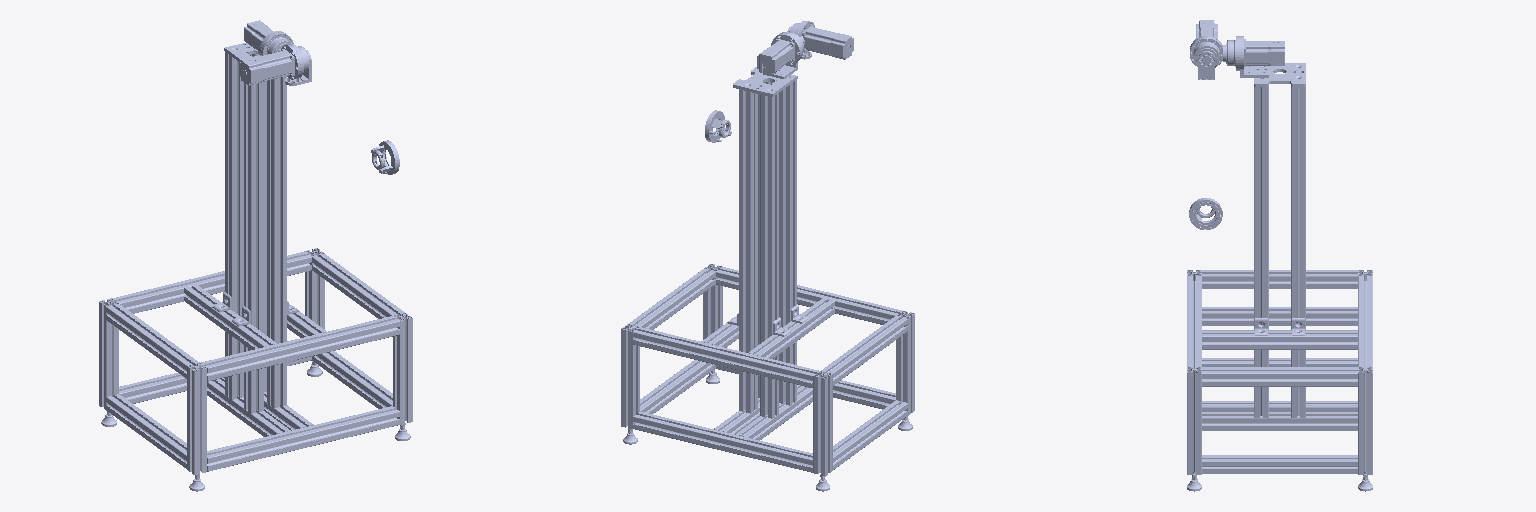
robot.urdf — urdf:
<?xml version="1.0" encoding="utf-8"?>
<!-- This URDF was automatically created by SolidWorks to URDF Exporter! Originally created by [author] ([email redacted]) 
     Commit Version: 1.6.0-4-g7f85cfe  Build Version: 1.6.7995.38578
     For more information, please see http://wiki.ros.org/sw_urdf_exporter -->
<robot
  name="urdf">
  <link
    name="base_link">
    <inertial>
      <origin
        xyz="0.000160852559340272 0.416511988266863 0.00522519390962018"
        rpy="0 0 0" />
      <mass
        value="6.60658072927865" />
      <inertia
        ixx="0.205461268695088"
        ixy="-4.8631130134879E-08"
        ixz="3.31309244336347E-09"
        iyy="0.0632251395598791"
        iyz="-4.46121098307276E-09"
        izz="0.213924141252687" />
    </inertial>
    <visual>
      <origin
        xyz="0 0 0"
        rpy="0 0 0" />
      <geometry>
        <mesh
          filename="package://air_description/meshes/base_link.STL" />
      </geometry>
      <material
        name="">
        <color
          rgba="0.792156862745098 0.819607843137255 0.933333333333333 1" />
      </material>
    </visual>
    <collision>
      <origin
        xyz="0 0 0"
        rpy="0 0 0" />
      <geometry>
        <mesh
          filename="package://air_description/meshes/base_link.STL" />
      </geometry>
    </collision>
  </link>
  <link
    name="s1">
    <inertial>
      <origin
        xyz="-0.0565855661773653 -1.47432999124675E-05 0.0503451976338493"
        rpy="0 0 0" />
      <mass
        value="0.542684124579144" />
      <inertia
        ixx="0.000345761092952399"
        ixy="-3.24050500600486E-07"
        ixz="1.50683178516403E-07"
        iyy="0.000778022471193682"
        iyz="1.07326375799424E-08"
        izz="0.000776671252305068" />
    </inertial>
    <visual>
      <origin
        xyz="0 0 0"
        rpy="0 0 0" />
      <geometry>
        <mesh
          filename="package://air_description/meshes/s1.STL" />
      </geometry>
      <material
        name="">
        <color
          rgba="0.792156862745098 0.819607843137255 0.933333333333333 1" />
      </material>
    </visual>
    <collision>
      <origin
        xyz="0 0 0"
        rpy="0 0 0" />
      <geometry>
        <mesh
          filename="package://air_description/meshes/s1.STL" />
      </geometry>
    </collision>
  </link>
  <joint
    name="s1j"
    type="revolute">
    <origin
      xyz="0 -0.1455 1.1455"
      rpy="1.5708 0 0" />
    <parent
      link="base_link" />
    <child
      link="s1" />
    <axis
      xyz="0 0 1" />
    <limit
      lower="-0.78"
      upper="0.78"
      effort="0"
      velocity="0.35" />
  </joint>
  <link
    name="s2">
    <inertial>
      <origin
        xyz="0.0265368019978267 -0.0360762146328593 0.00202591662662588"
        rpy="0 0 0" />
      <mass
        value="0.0397003268136184" />
      <inertia
        ixx="1.77539568949169E-05"
        ixy="-5.49265597337707E-08"
        ixz="4.46961963342789E-21"
        iyy="9.62749691816005E-06"
        iyz="5.5659379414233E-21"
        izz="1.53865784423673E-05" />
    </inertial>
    <visual>
      <origin
        xyz="0 0 0"
        rpy="0 0 0" />
      <geometry>
        <mesh
          filename="package://air_description/meshes/s2.STL" />
      </geometry>
      <material
        name="">
        <color
          rgba="0.792156862745098 0.819607843137255 0.933333333333333 1" />
      </material>
    </visual>
    <collision>
      <origin
        xyz="0 0 0"
        rpy="0 0 0" />
      <geometry>
        <mesh
          filename="package://air_description/meshes/s2.STL" />
      </geometry>
    </collision>
  </link>
  <joint
    name="s2j"
    type="revolute">
    <origin
      xyz="0 0 0.05"
      rpy="0 0 0" />
    <parent
      link="s1" />
    <child
      link="s2" />
    <axis
      xyz="-1 0 0" />
    <limit
      lower="0"
      upper="1.57"
      effort="0"
      velocity="0.35" />
  </joint>
  <link
    name="s3">
    <inertial>
      <origin
        xyz="-0.0307852686146159 -0.106762715233885 -0.00285680761161178"
        rpy="0 0 0" />
      <mass
        value="0.69346525440976" />
      <inertia
        ixx="0.000632226154715784"
        ixy="3.3846916742775E-06"
        ixz="-2.03216958615076E-06"
        iyy="0.000203793561582271"
        iyz="-7.69131798756883E-08"
        izz="0.000626858789980171" />
    </inertial>
    <visual>
      <origin
        xyz="0 0 0"
        rpy="0 0 0" />
      <geometry>
        <mesh
          filename="package://air_description/meshes/s3.STL" />
      </geometry>
      <material
        name="">
        <color
          rgba="0.792156862745098 0.819607843137255 0.933333333333333 1" />
      </material>
    </visual>
    <collision>
      <origin
        xyz="0 0 0"
        rpy="0 0 0" />
      <geometry>
        <mesh
          filename="package://air_description/meshes/s3.STL" />
      </geometry>
    </collision>
  </link>
  <joint
    name="s3j"
    type="revolute">
    <origin
      xyz="-0.00345 -0.06 0.0036"
      rpy="0 0 0" />
    <parent
      link="s2" />
    <child
      link="s3" />
    <axis
      xyz="0 -1 0" />
    <limit
      lower="-1.57"
      upper="1.57"
      effort="0"
      velocity="0.35" />
  </joint>
  <link
    name="e">
    <inertial>
      <origin
        xyz="0.133914313079551 0.0397090138567681 -0.00135370354868536"
        rpy="0 0 0" />
      <mass
        value="0.524484949455585" />
      <inertia
        ixx="0.000164098535625993"
        ixy="-0.00011555456704967"
        ixz="-1.49937999308697E-06"
        iyy="0.000491486729879123"
        iyz="5.4210279008361E-06"
        izz="0.000537801635705856" />
    </inertial>
    <visual>
      <origin
        xyz="0 0 0"
        rpy="0 0 0" />
      <geometry>
        <mesh
          filename="package://air_description/meshes/e.STL" />
      </geometry>
      <material
        name="">
        <color
          rgba="0.792156862745098 0.819607843137255 0.933333333333333 1" />
      </material>
    </visual>
    <collision>
      <origin
        xyz="0 0 0"
        rpy="0 0 0" />
      <geometry>
        <mesh
          filename="package://air_description/meshes/e.STL" />
      </geometry>
    </collision>
  </link>
  <joint
    name="ej"
    type="revolute">
    <origin
      xyz="-0.005 -0.2835 0"
      rpy="0 0 -0.28935" />
    <parent
      link="s3" />
    <child
      link="e" />
    <axis
      xyz="0 0 1" />
    <limit
      lower="-1.4"
      upper="0.184"
      effort="0"
      velocity="0.13" />
  </joint>
  <link
    name="roll">
    <inertial>
      <origin
        xyz="2.11649564541005E-08 2.17253527112771E-08 -5.72361158468482E-10"
        rpy="0 0 0" />
      <mass
        value="0.0123350072540482" />
      <inertia
        ixx="5.73140316108075E-06"
        ixy="2.39610064059149E-12"
        ixz="2.37221429275288E-12"
        iyy="3.0133459248538E-06"
        iyz="-2.51281711383088E-12"
        izz="3.01335111374677E-06" />
    </inertial>
    <visual>
      <origin
        xyz="0 0 0"
        rpy="0 0 0" />
      <geometry>
        <mesh
          filename="package://air_description/meshes/roll.STL" />
      </geometry>
      <material
        name="">
        <color
          rgba="0.792156862745098 0.819607843137255 0.933333333333333 1" />
      </material>
    </visual>
    <collision>
      <origin
        xyz="0 0 0"
        rpy="0 0 0" />
      <geometry>
        <mesh
          filename="package://air_description/meshes/roll.STL" />
      </geometry>
    </collision>
  </link>
  <joint
    name="rollj"
    type="revolute">
    <origin
      xyz="0.25159 0.0749 0"
      rpy="-1.5708 0 -2.8522" />
    <parent
      link="e" />
    <child
      link="roll" />
    <axis
      xyz="0 0.70711 0.70711" />
    <limit
      lower="-0.26"
      upper="0.26"
      effort="0"
      velocity="0.09" />
  </joint>
  <link
    name="pitch">
    <inertial>
      <origin
        xyz="0.0286089165171641 -0.000144661566694015 0.009855465038871"
        rpy="0 0 0" />
      <mass
        value="0.0576090249075869" />
      <inertia
        ixx="7.09168260696957E-05"
        ixy="-9.04854271559607E-09"
        ixz="-9.02484498992207E-09"
        iyy="3.68466285330398E-05"
        iyz="-3.7654782496613E-07"
        izz="3.68466243102646E-05" />
    </inertial>
    <visual>
      <origin
        xyz="0 0 0"
        rpy="0 0 0" />
      <geometry>
        <mesh
          filename="package://air_description/meshes/pitch.STL" />
      </geometry>
      <material
        name="">
        <color
          rgba="0.792156862745098 0.819607843137255 0.933333333333333 1" />
      </material>
    </visual>
    <collision>
      <origin
        xyz="0 0 0"
        rpy="0 0 0" />
      <geometry>
        <mesh
          filename="package://air_description/meshes/pitch.STL" />
      </geometry>
    </collision>
  </link>
  <joint
    name="pitchj"
    type="revolute">
    <origin
      xyz="0 0.01 0"
      rpy="-1.5708 0 3.1416" />
    <parent
      link="roll" />
    <child
      link="pitch" />
    <axis
      xyz="0 0.70711 -0.70711" />
    <limit
      lower="-0.26"
      upper="0.26"
      effort="0"
      velocity="0.09" />
  </joint>
  <link
    name="yaw">
    <inertial>
      <origin
        xyz="0.121145515511824 -0.00274393412138674 -0.00280619674961233"
        rpy="0 0 0" />
      <mass
        value="0.288045639627102" />
      <inertia
        ixx="0.000166764800385917"
        ixy="1.15318815602555E-05"
        ixz="-2.72502292894343E-07"
        iyy="0.000292613552431781"
        iyz="3.6036191451638E-08"
        izz="0.000214965635544534" />
    </inertial>
    <visual>
      <origin
        xyz="0 0 0"
        rpy="0 0 0" />
      <geometry>
        <mesh
          filename="package://air_description/meshes/yaw.STL" />
      </geometry>
      <material
        name="">
        <color
          rgba="0.792156862745098 0.819607843137255 0.933333333333333 1" />
      </material>
    </visual>
    <collision>
      <origin
        xyz="0 0 0"
        rpy="0 0 0" />
      <geometry>
        <mesh
          filename="package://air_description/meshes/yaw.STL" />
      </geometry>
    </collision>
  </link>
  <joint
    name="yawj"
    type="revolute">
    <origin
      xyz="0.01 0 0.01"
      rpy="0 0 0" />
    <parent
      link="pitch" />
    <child
      link="yaw" />
    <axis
      xyz="-1 0 0" />
    <limit
      lower="-3.0"
      upper="3.0"
      effort="0"
      velocity="1.75" />
  </joint>

    <gazebo reference="base_link">
      <turnGravityOff>true</turnGravityOff>
    </gazebo>
    <gazebo reference="s1">
      <turnGravityOff>true</turnGravityOff>
    </gazebo>
    <gazebo reference="s2">
      <turnGravityOff>true</turnGravityOff>
    </gazebo>
    <gazebo reference="s3">
      <turnGravityOff>true</turnGravityOff>
    </gazebo>
    <gazebo reference="e">
      <turnGravityOff>true</turnGravityOff>
    </gazebo>
    <gazebo reference="roll">
      <turnGravityOff>true</turnGravityOff>
    </gazebo>
    <gazebo reference="pitch">
      <turnGravityOff>true</turnGravityOff>
    </gazebo>
    <gazebo reference="yaw">
      <turnGravityOff>true</turnGravityOff>
    </gazebo>

</robot>

--- Facts derived from the render (not from the file) ---
Views: 3 orthographic renders of the robot side by side, from view 1: azimuth 30°, elevation 25°; view 2: azimuth 150°, elevation 25°; view 3: azimuth 270°, elevation 25°.
Model urdf with 8 links and 7 joints (7 revolute), rooted at base_link, posed all joints at 0.
Visible links, largest first — view 1: base_link, s1; view 2: base_link, s1; view 3: base_link, s1, pitch.
Boxes of the visible links, x1=… form: base_link: x1=99, y1=20, x2=412, y2=491; s1: x1=240, y1=44, x2=309, y2=85; base_link: x1=621, y1=32, x2=914, y2=491; s1: x1=789, y1=21, x2=853, y2=59; base_link: x1=1187, y1=36, x2=1372, y2=491; s1: x1=1190, y1=20, x2=1225, y2=67; pitch: x1=1189, y1=198, x2=1222, y2=229.
Size in the robot's own frame: 0.661 by 0.501 by 1.19 metres.
Meshes: 8 distinct files referenced, 5 mesh visuals loaded (5 binary STL); not drawn: 3 (reference not matched to a file when rendering).